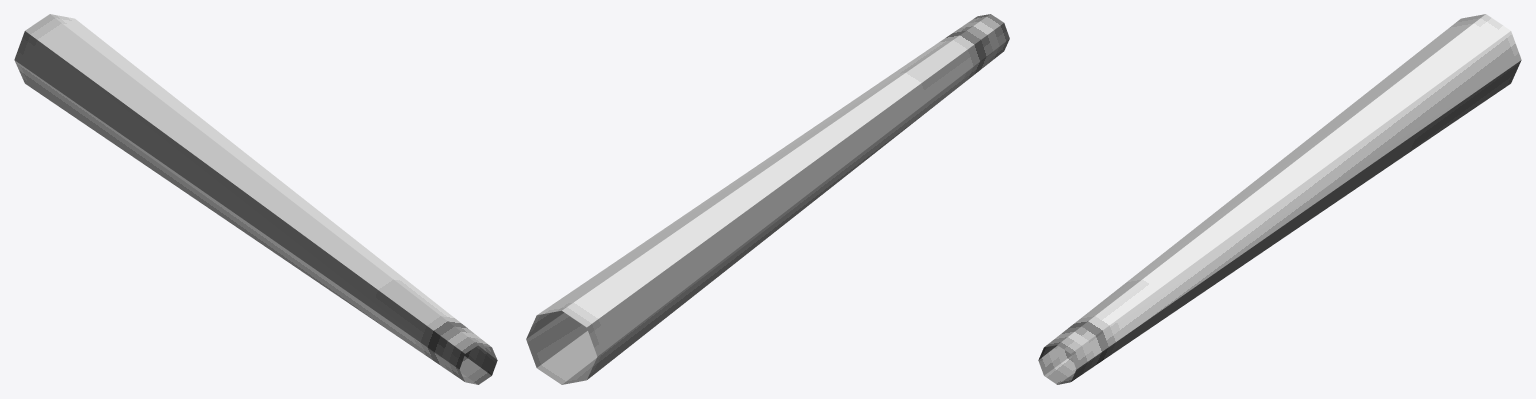
File: secondary_050.glb
The picture shows the model from 3 angles, left to right: view 1: azimuth 30°, elevation 25°; view 2: azimuth 150°, elevation 25°; view 3: azimuth 330°, elevation 25°; orthographic projection.
Visible parts, largest first — view 1: Object; view 2: Object; view 3: Object.
Part boxes in pixels (x1=…): Object: x1=14, y1=14, x2=497, y2=384; Object: x1=526, y1=14, x2=1009, y2=384; Object: x1=1038, y1=14, x2=1521, y2=384.
Bounding box in the file's own units: 0.2285 × 0.2273 × 2.38.
6 materials, 6 textured.
